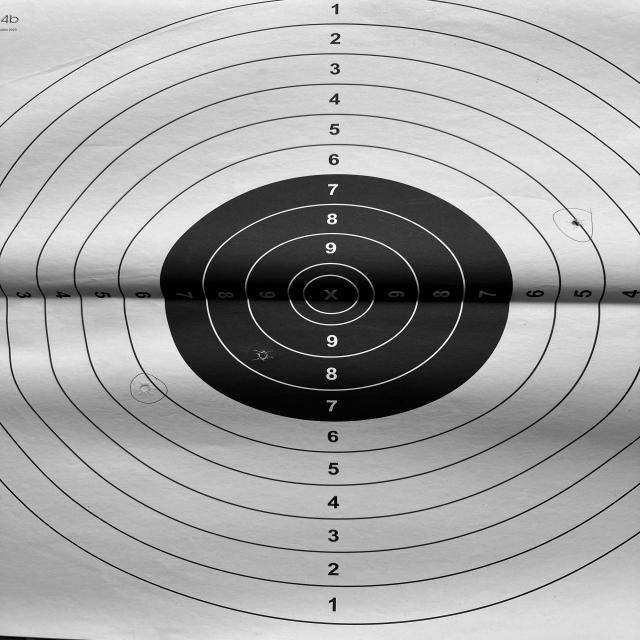bullet: (136, 382, 151, 393), (258, 349, 271, 359), (571, 219, 580, 227)
target: (0, 0, 640, 640)
